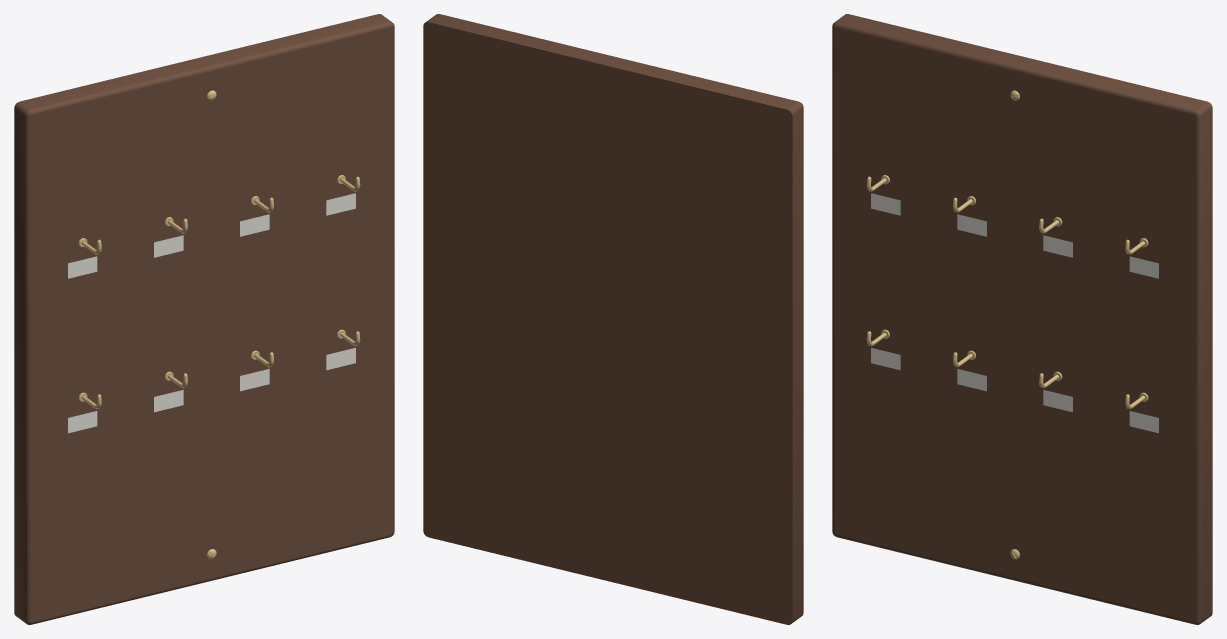
Rendered from Kit_KeyHookBoard.fbx.
3 views of the same model, side by side, from view 1: azimuth 30°, elevation 25°; view 2: azimuth 150°, elevation 25°; view 3: azimuth 330°, elevation 25° (orthographic).
Parts seen in each view (by area): view 1: Kit_KeyHookBoard_LOD0; view 2: Kit_KeyHookBoard_LOD0; view 3: Kit_KeyHookBoard_LOD0.
Boxes of the visible parts, x1,y1,x2,y2 form: Kit_KeyHookBoard_LOD0: [14, 14, 394, 624]; Kit_KeyHookBoard_LOD0: [423, 14, 803, 624]; Kit_KeyHookBoard_LOD0: [832, 14, 1212, 624].
Size of what is drawn, in the model's own units: 0.3 by 0.4 by 0.0436.
